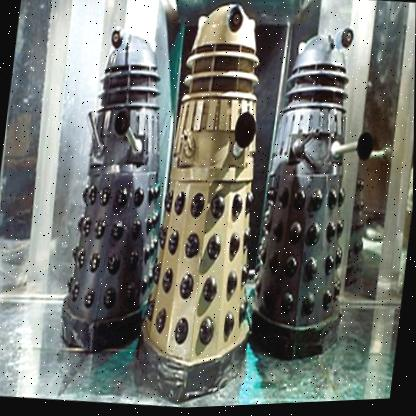dalek: (130, 0, 289, 408), (247, 1, 397, 368), (56, 16, 186, 372)
